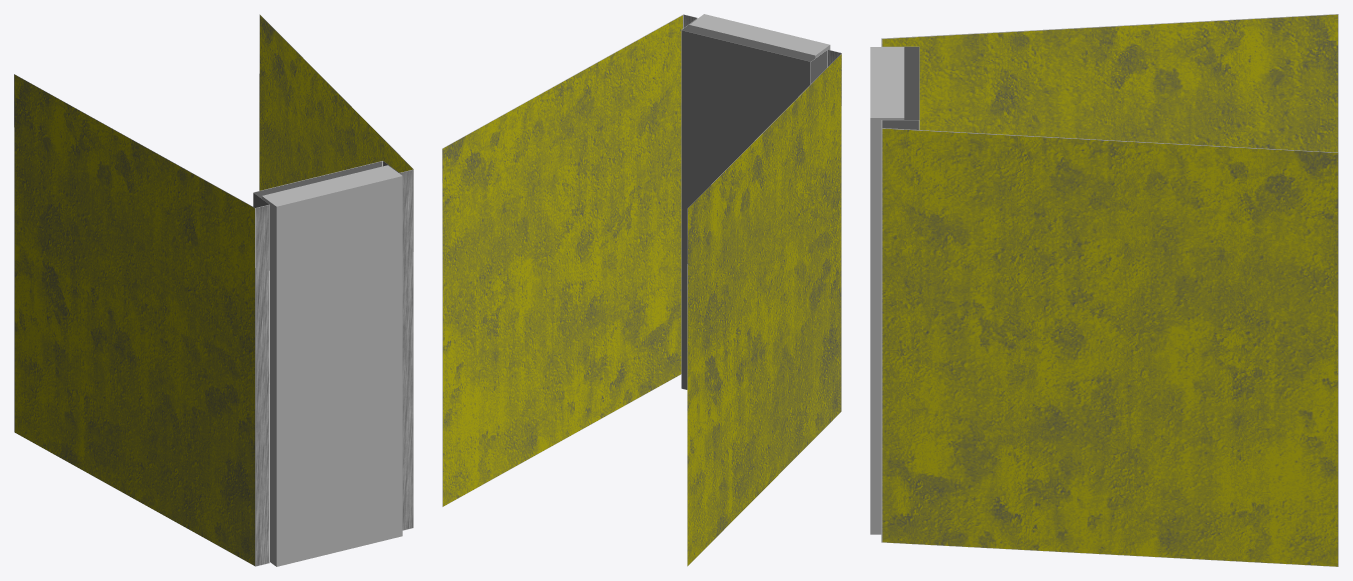
The model's file is CubeBaseFrontColumnLower.fbx.
The picture shows the model from 3 angles, left to right: view 1: azimuth 30°, elevation 25°; view 2: azimuth 150°, elevation 25°; view 3: azimuth 270°, elevation 25°; orthographic projection. The views are drawn at different scales.
Parts seen in each view (by area): view 1: pCube3, pCube4; view 2: pCube3, pCube4; view 3: pCube3, pCube4.
Part boxes in pixels (x1,y1,x2,y2): pCube3: [14, 14, 413, 566]; pCube4: [262, 165, 402, 566]; pCube3: [442, 14, 841, 566]; pCube4: [689, 14, 830, 61]; pCube3: [881, 14, 1338, 566]; pCube4: [870, 47, 904, 534].
Size of the model in its own units: 0.7167 by 1 by 1.02.
2 materials, 1 textured.
